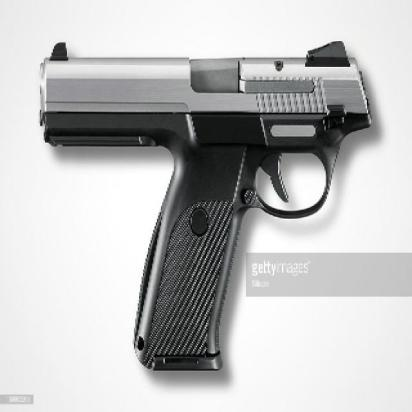Gun: (29, 31, 382, 374)
